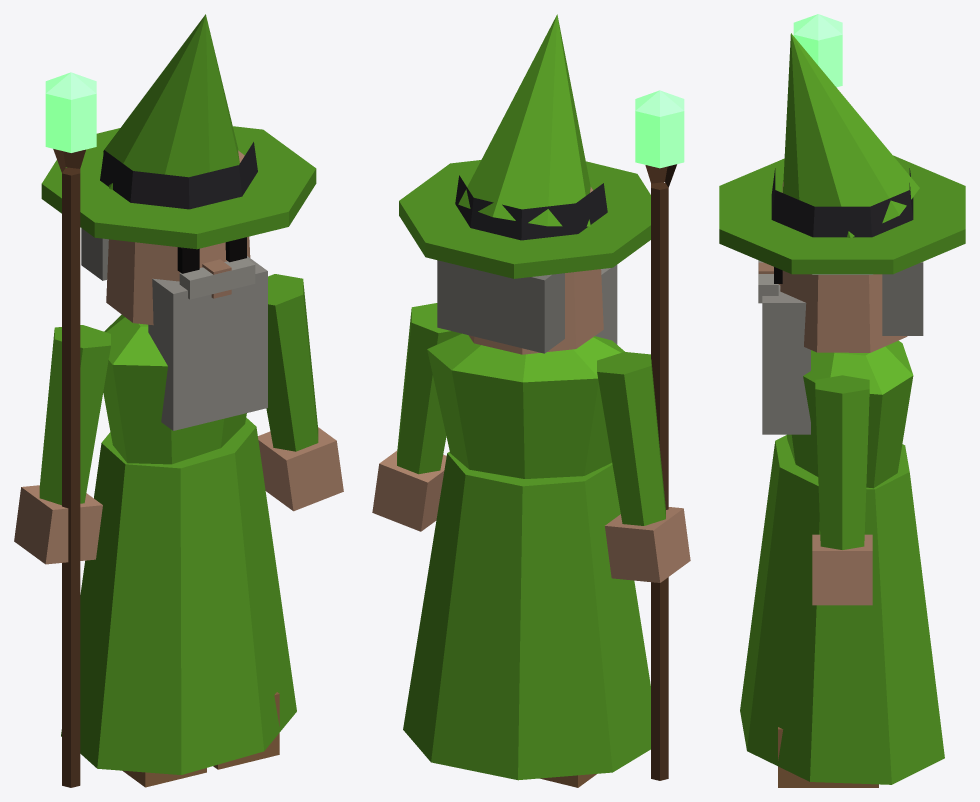
File: hero_mage.glb
3 renders of one model, left to right at view 1: azimuth 30°, elevation 25°; view 2: azimuth 150°, elevation 25°; view 3: azimuth 270°, elevation 25°, orthographic. The views are drawn at different scales.
Parts seen in each view (by area): view 1: hero_mage_torso, hero_mage_head, hero_mage_staff, hero_mage_arm_l, hero_mage_arm_r, hero_mage_leg_l, hero_mage_leg_r; view 2: hero_mage_torso, hero_mage_head, hero_mage_arm_r, hero_mage_staff, hero_mage_arm_l; view 3: hero_mage_torso, hero_mage_head, hero_mage_arm_l, hero_mage_staff, hero_mage_leg_l.
Part boxes in pixels (box(x1,y1,x2,y2)): hero_mage_torso: box(61, 314, 296, 774); hero_mage_head: box(41, 14, 316, 430); hero_mage_staff: box(45, 72, 96, 787); hero_mage_arm_l: box(258, 274, 343, 511); hero_mage_arm_r: box(14, 325, 110, 564); hero_mage_leg_l: box(213, 692, 279, 769); hero_mage_leg_r: box(122, 768, 206, 787); hero_mage_torso: box(403, 333, 650, 780); hero_mage_head: box(399, 14, 650, 354); hero_mage_arm_r: box(597, 352, 690, 582); hero_mage_staff: box(635, 90, 684, 780); hero_mage_arm_l: box(372, 303, 460, 531); hero_mage_torso: box(740, 340, 944, 784); hero_mage_head: box(719, 33, 965, 434); hero_mage_arm_l: box(812, 375, 872, 605); hero_mage_staff: box(793, 14, 842, 87); hero_mage_leg_l: box(778, 727, 878, 787).
Size of the model in its own units: 0.821 by 1.98 by 0.6098.
